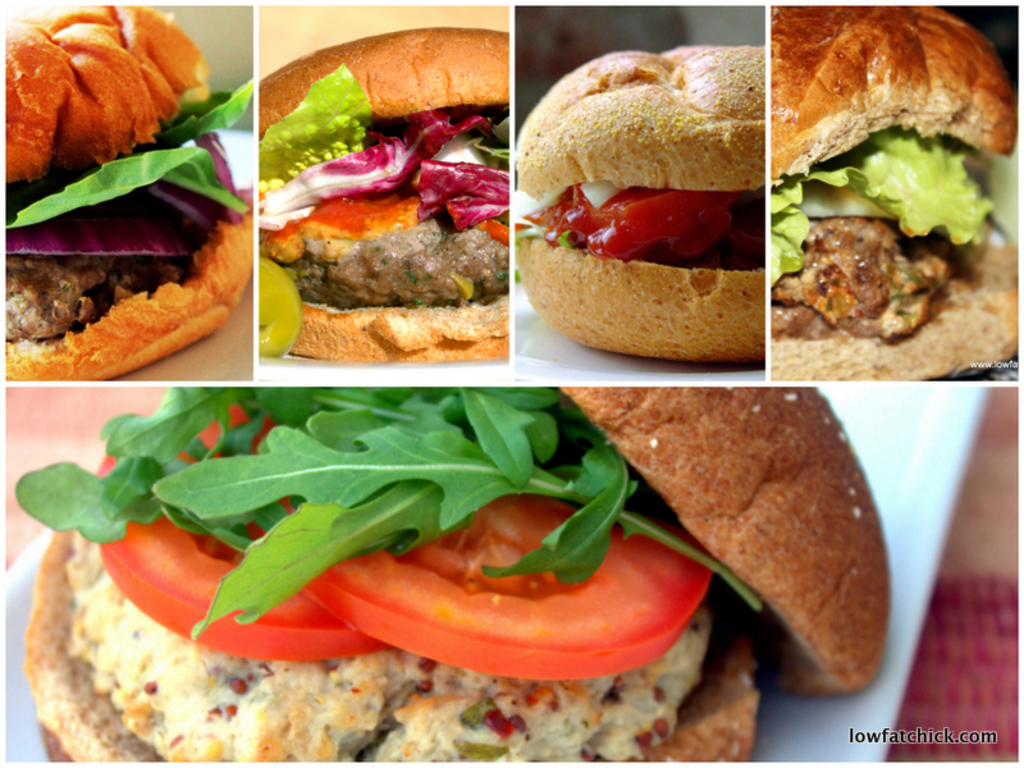Hamburger: (12, 387, 890, 766), (769, 0, 1022, 380), (0, 0, 252, 378), (259, 26, 506, 367), (517, 46, 765, 364)
